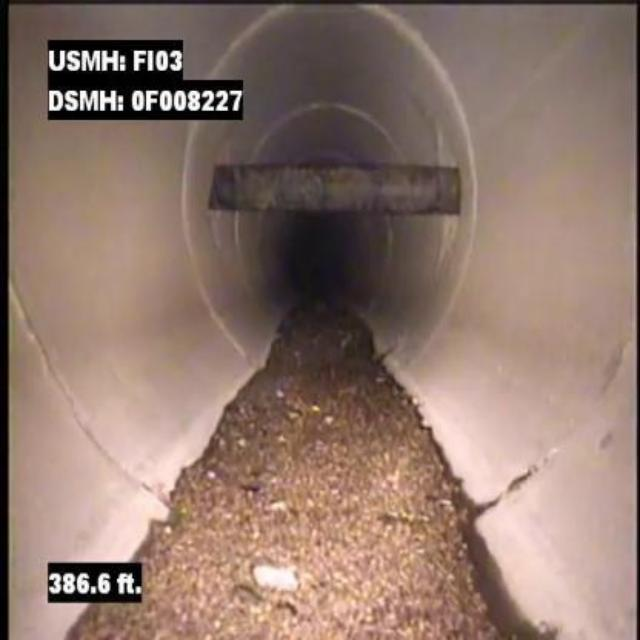Debris: (134, 400, 474, 555)
